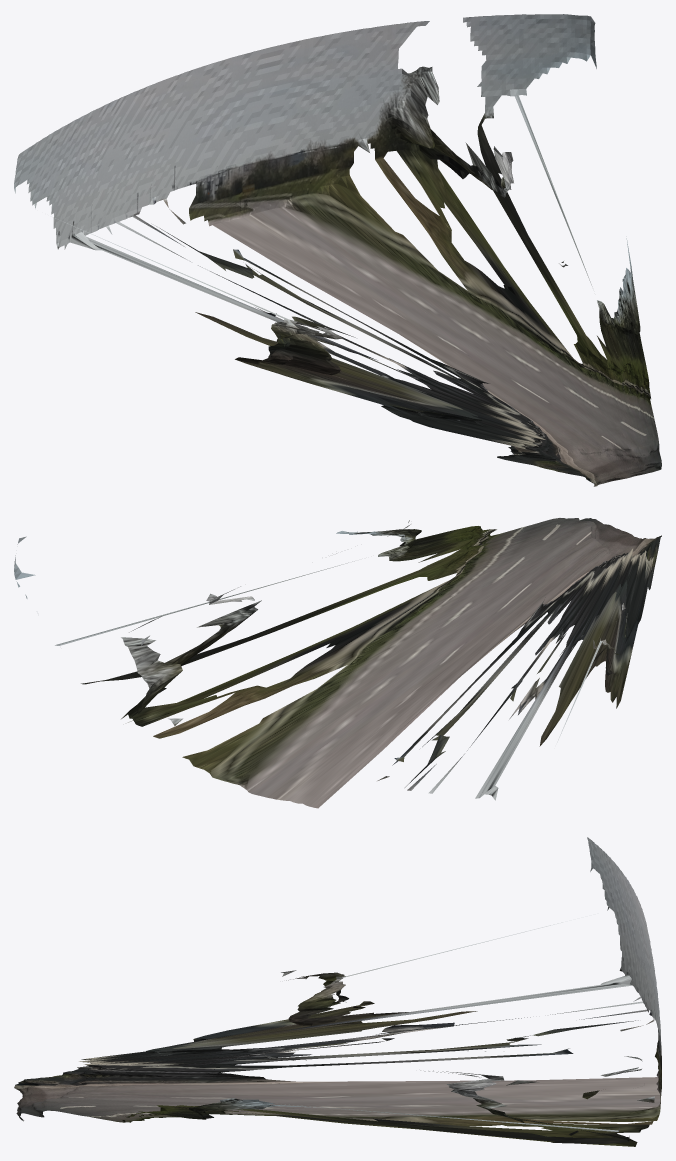
The picture shows the model from 3 angles, top to bottom: view 1: azimuth 30°, elevation 25°; view 2: azimuth 150°, elevation 25°; view 3: azimuth 270°, elevation 25°; orthographic projection. The views are drawn at different scales.
Parts seen in each view (by area): view 1: defaultobject; view 2: defaultobject; view 3: defaultobject.
Part boxes in pixels (bbox=[...]): defaultobject: bbox=[14, 14, 661, 486]; defaultobject: bbox=[14, 518, 661, 808]; defaultobject: bbox=[14, 837, 661, 1146].
Bounding box in the file's own units: 40.64 × 11.71 × 44.48.
1 material, 1 textured.
